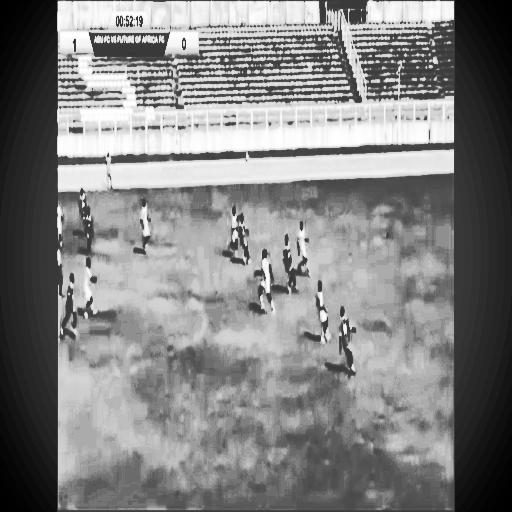ball: (243, 146, 252, 164)
referee: (56, 243, 64, 303), (103, 152, 114, 191)
team1: (292, 205, 315, 283), (256, 239, 276, 319), (80, 257, 102, 323), (315, 274, 333, 348), (137, 193, 152, 259), (58, 185, 68, 249), (230, 203, 239, 262)
team2: (336, 304, 360, 380), (277, 233, 295, 299), (238, 205, 252, 270), (67, 263, 76, 343), (78, 182, 89, 239), (86, 210, 92, 249)
